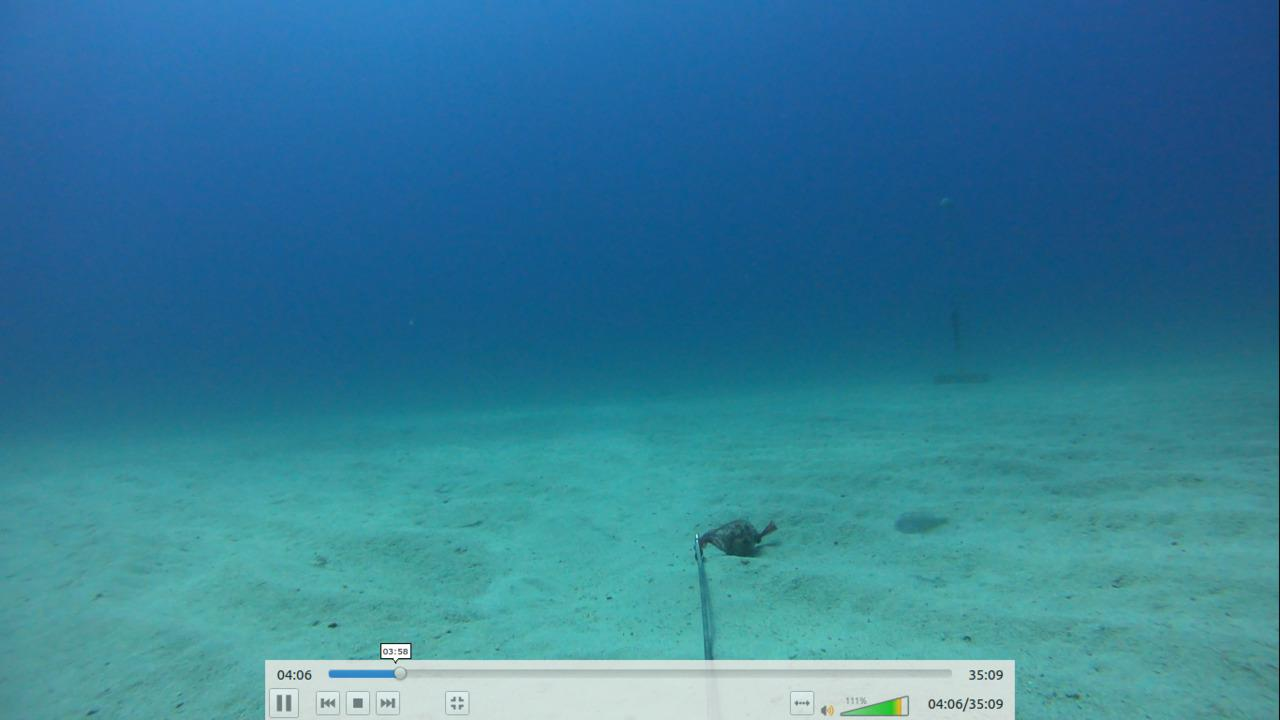raor: (889, 501, 956, 543)
